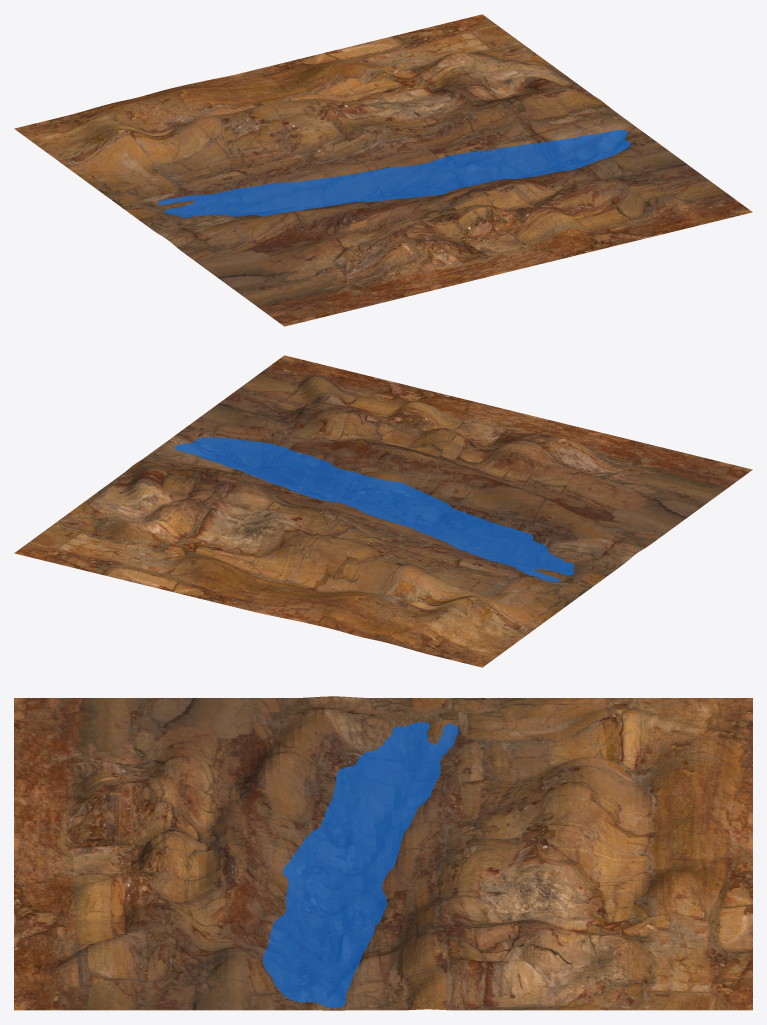
File: maa.glb
3 renders of one model, top to bottom at view 1: azimuth 30°, elevation 25°; view 2: azimuth 150°, elevation 25°; view 3: azimuth 270°, elevation 25°, orthographic. The views are drawn at different scales.
Visible parts, largest first — view 1: Grid, Plane; view 2: Grid, Plane; view 3: Grid, Plane.
Boxes of the visible parts, x1,y1,x2,y2 form: Grid: [14, 14, 752, 326]; Plane: [157, 129, 630, 217]; Grid: [14, 355, 752, 667]; Plane: [175, 437, 574, 581]; Grid: [14, 696, 752, 1010]; Plane: [263, 721, 458, 1008].
Bounding box in the file's own units: 50 × 4.69 × 50.
2 materials, 1 textured.
